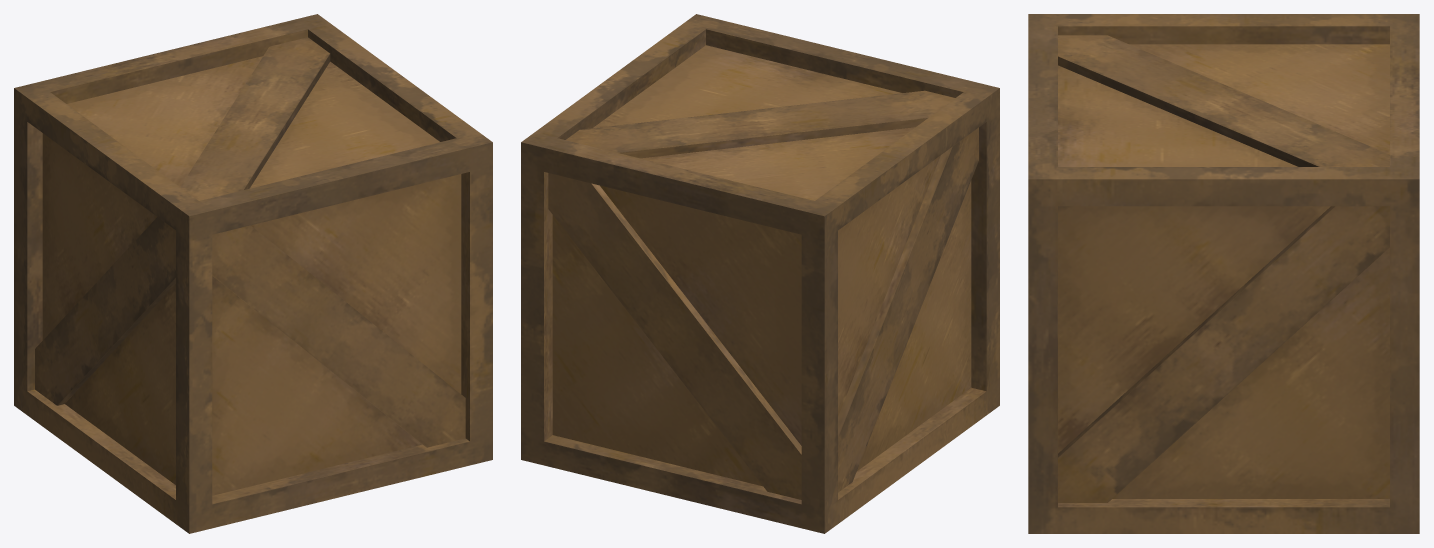
Rendered from WoodenBox.fbx.
3 views of the same model, side by side, from view 1: azimuth 30°, elevation 25°; view 2: azimuth 150°, elevation 25°; view 3: azimuth 270°, elevation 25° (orthographic). The views are drawn at different scales.
Visible parts, largest first — view 1: wooden box_low; view 2: wooden box_low; view 3: wooden box_low.
Part boxes in pixels (<box>): wooden box_low: <box>14,14,492,533</box>; wooden box_low: <box>521,14,999,533</box>; wooden box_low: <box>1028,14,1419,533</box>.
Size of the model in its own units: 160 by 160 by 160.
